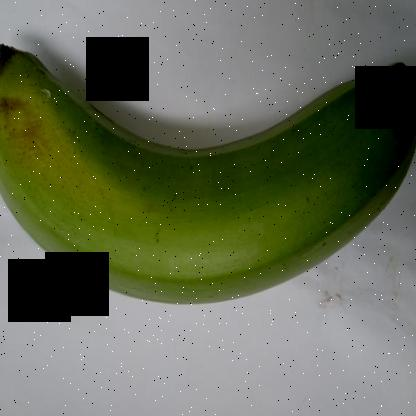freshunripe: (0, 28, 415, 323)
